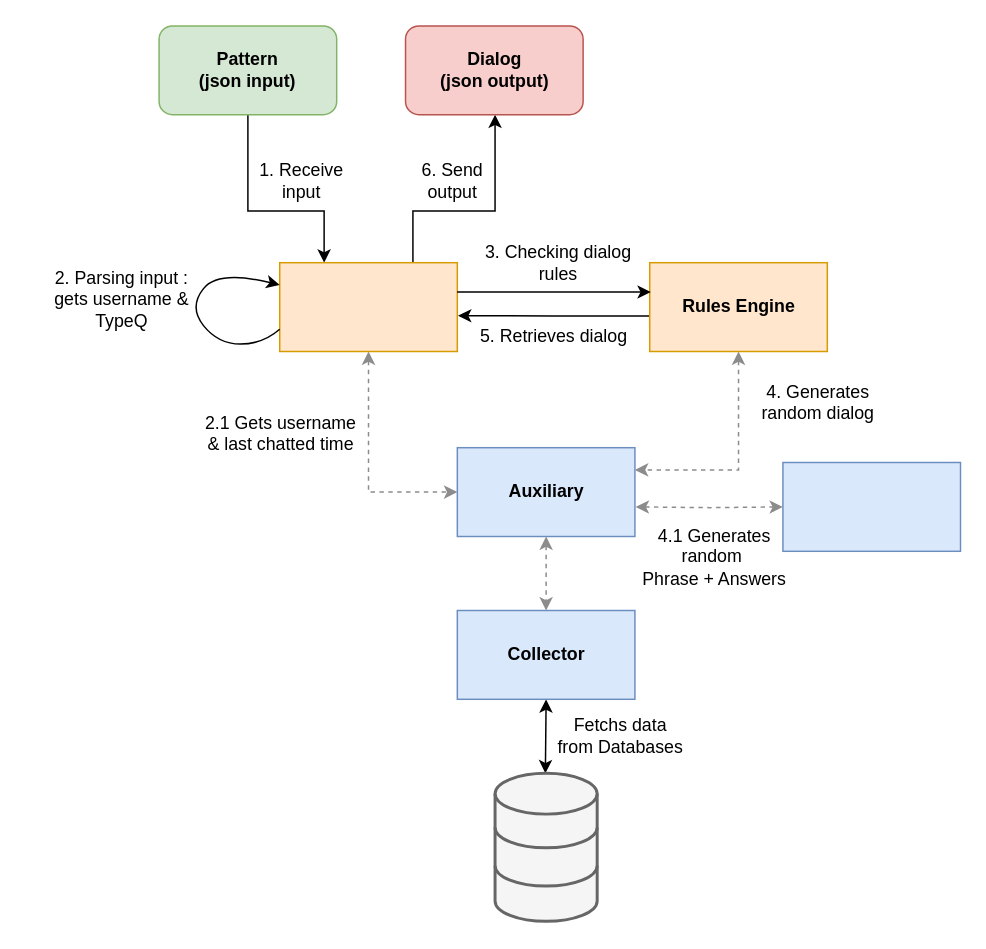
Some shapes in this 986 by 949 pixel diagram are drawn without their labels. Each missing label, with the box of its shape:
Dialog Agent: (278, 261, 457, 352)
Generator: (781, 461, 961, 551)
MongoDB: (493, 771, 598, 922)
